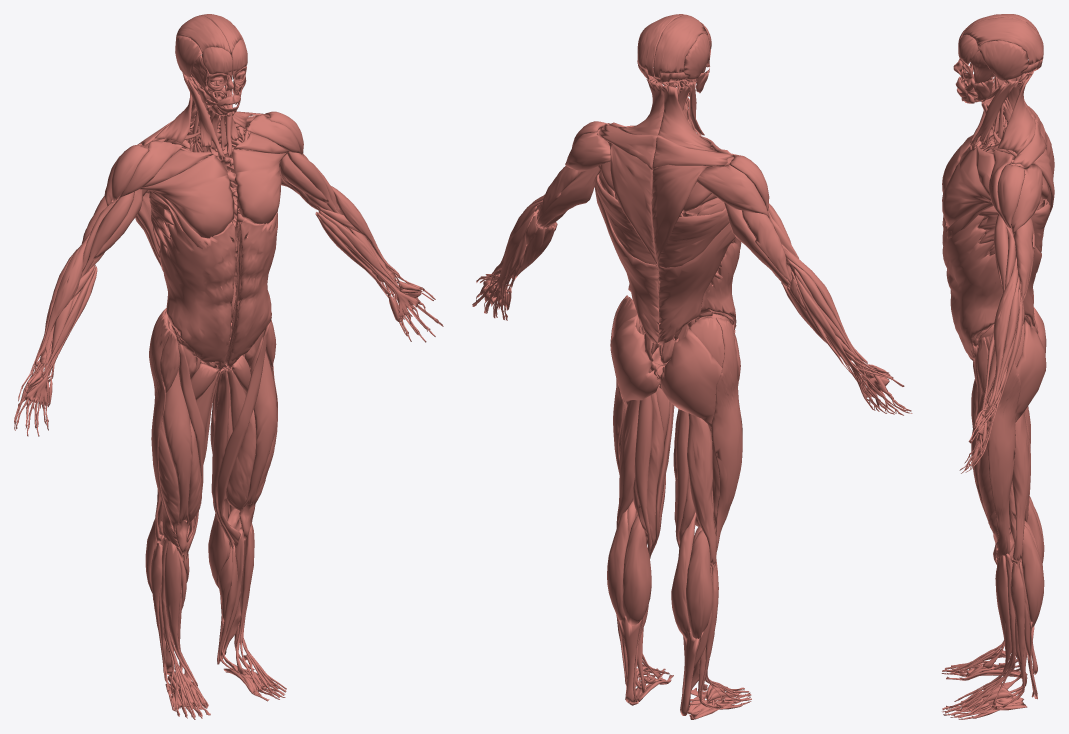
Rendered from astronaut_muscular.glb.
3 views of the same model, side by side, from view 1: azimuth 30°, elevation 25°; view 2: azimuth 150°, elevation 25°; view 3: azimuth 270°, elevation 25° (orthographic). The views are drawn at different scales.
Parts seen in each view (by area): view 1: MUSCLE_ExternalOblique_R, MUSCLE_PectoralisMajor_R, MUSCLE_Quadriceps_R, MUSCLE_Quadriceps_L, MUSCLE_ExternalOblique_L, MUSCLE_PectoralisMajor_L, MUSCLE_Facial_R, MUSCLE_ForearmFlexors_L, MUSCLE_TensorFasciaeLatae_R, MUSCLE_Adductors_L, MUSCLE_ForearmFlexors_R, MUSCLE_Deltoid_R (+24 smaller); view 2: MUSCLE_LatissimusDorsi_R, MUSCLE_Trapezius_R, MUSCLE_Trapezius_L, MUSCLE_Hamstrings_L, MUSCLE_Gastrocnemius_L, MUSCLE_Hamstrings_R, MUSCLE_Gastrocnemius_R, MUSCLE_TensorFasciaeLatae_R, MUSCLE_LatissimusDorsi_L, MUSCLE_GluteusMaximus_R, MUSCLE_ForearmExtensors_R, MUSCLE_Facial_R (+15 smaller); view 3: MUSCLE_ExternalOblique_L, MUSCLE_Facial_L, MUSCLE_TensorFasciaeLatae_L, MUSCLE_PectoralisMajor_L, MUSCLE_ForearmExtensors_L, MUSCLE_Deltoid_L, MUSCLE_Trapezius_L, MUSCLE_Hamstrings_L, MUSCLE_Gastrocnemius_L, MUSCLE_GluteusMaximus_L, MUSCLE_LegExtensors_L, MUSCLE_Fibulares_L (+28 smaller).
Boxes of the visible parts, x1,y1,x2,y2 form: MUSCLE_ExternalOblique_R: (159, 211, 236, 363); MUSCLE_PectoralisMajor_R: (139, 150, 234, 249); MUSCLE_Quadriceps_R: (158, 368, 201, 555); MUSCLE_Quadriceps_L: (226, 337, 277, 540); MUSCLE_ExternalOblique_L: (231, 213, 277, 361); MUSCLE_PectoralisMajor_L: (233, 132, 289, 232); MUSCLE_Facial_R: (175, 15, 233, 116); MUSCLE_ForearmFlexors_L: (315, 206, 442, 342); MUSCLE_TensorFasciaeLatae_R: (149, 308, 179, 546); MUSCLE_Adductors_L: (211, 355, 250, 548); MUSCLE_ForearmFlexors_R: (14, 264, 97, 436); MUSCLE_Deltoid_R: (104, 140, 182, 205); MUSCLE_LatissimusDorsi_R: (657, 208, 735, 345); MUSCLE_Trapezius_R: (652, 85, 733, 266); MUSCLE_Trapezius_L: (598, 81, 664, 265); MUSCLE_Hamstrings_L: (616, 391, 663, 553); MUSCLE_Gastrocnemius_L: (607, 509, 651, 703); MUSCLE_Hamstrings_R: (673, 409, 716, 564); MUSCLE_Gastrocnemius_R: (671, 512, 712, 715); MUSCLE_TensorFasciaeLatae_R: (711, 317, 742, 553); MUSCLE_LatissimusDorsi_L: (594, 173, 659, 343); MUSCLE_GluteusMaximus_R: (660, 328, 722, 426); MUSCLE_ForearmExtensors_R: (781, 244, 912, 413); MUSCLE_Facial_R: (653, 15, 711, 93); MUSCLE_ExternalOblique_L: (942, 215, 1002, 358); MUSCLE_Facial_L: (953, 17, 1043, 103); MUSCLE_TensorFasciaeLatae_L: (976, 333, 1020, 557); MUSCLE_PectoralisMajor_L: (942, 145, 994, 238); MUSCLE_ForearmExtensors_L: (965, 255, 1023, 472); MUSCLE_Deltoid_L: (988, 150, 1042, 235); MUSCLE_Trapezius_L: (997, 72, 1054, 224); MUSCLE_Hamstrings_L: (1009, 410, 1030, 561); MUSCLE_Gastrocnemius_L: (1021, 521, 1044, 699); MUSCLE_GluteusMaximus_L: (1015, 319, 1046, 422); MUSCLE_LegExtensors_L: (942, 553, 1015, 718); MUSCLE_Fibulares_L: (996, 559, 1026, 707).
Size of the model in its own units: 1.17 by 1.74 by 0.2643.
